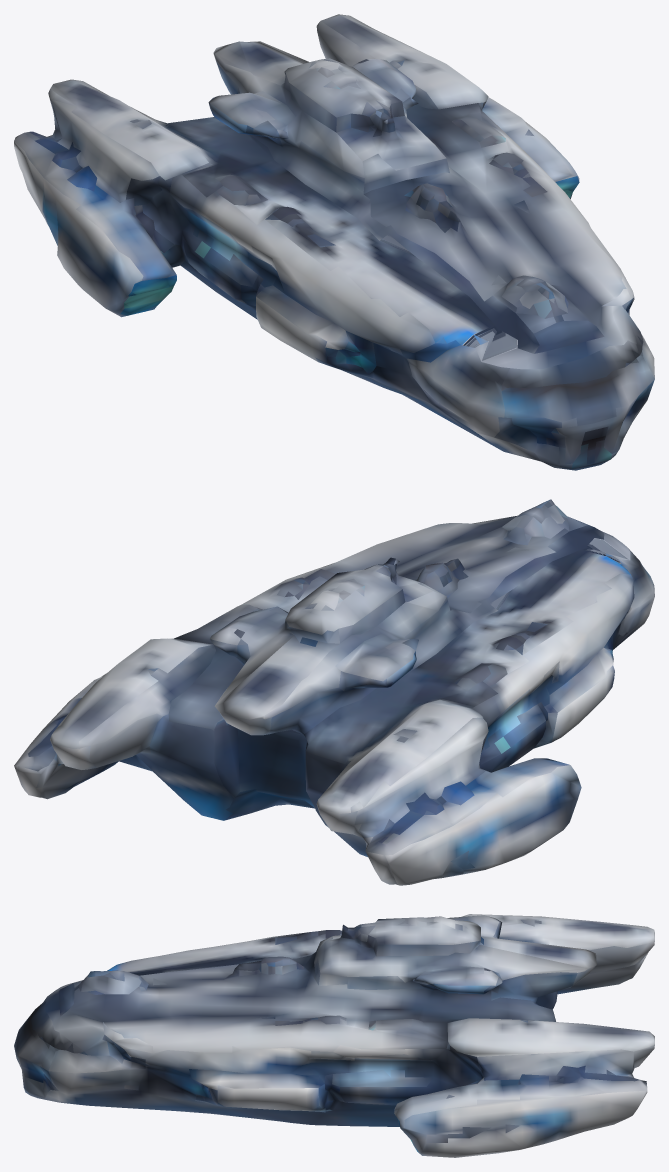
Rendered from alliance_battleship_lod2.glb.
3 views of the same model, one above another, from view 1: azimuth 30°, elevation 25°; view 2: azimuth 150°, elevation 25°; view 3: azimuth 270°, elevation 25° (orthographic). The views are drawn at different scales.
Parts seen in each view (by area): view 1: model; view 2: model; view 3: model.
Part boxes in pixels (left/top/right/bottom): model: left=14, top=14, right=654, bottom=470; model: left=14, top=499, right=654, bottom=885; model: left=14, top=914, right=654, bottom=1157.
Bounding box in the file's own units: 1.23 × 0.5907 × 1.88.
1 material, 1 textured.
